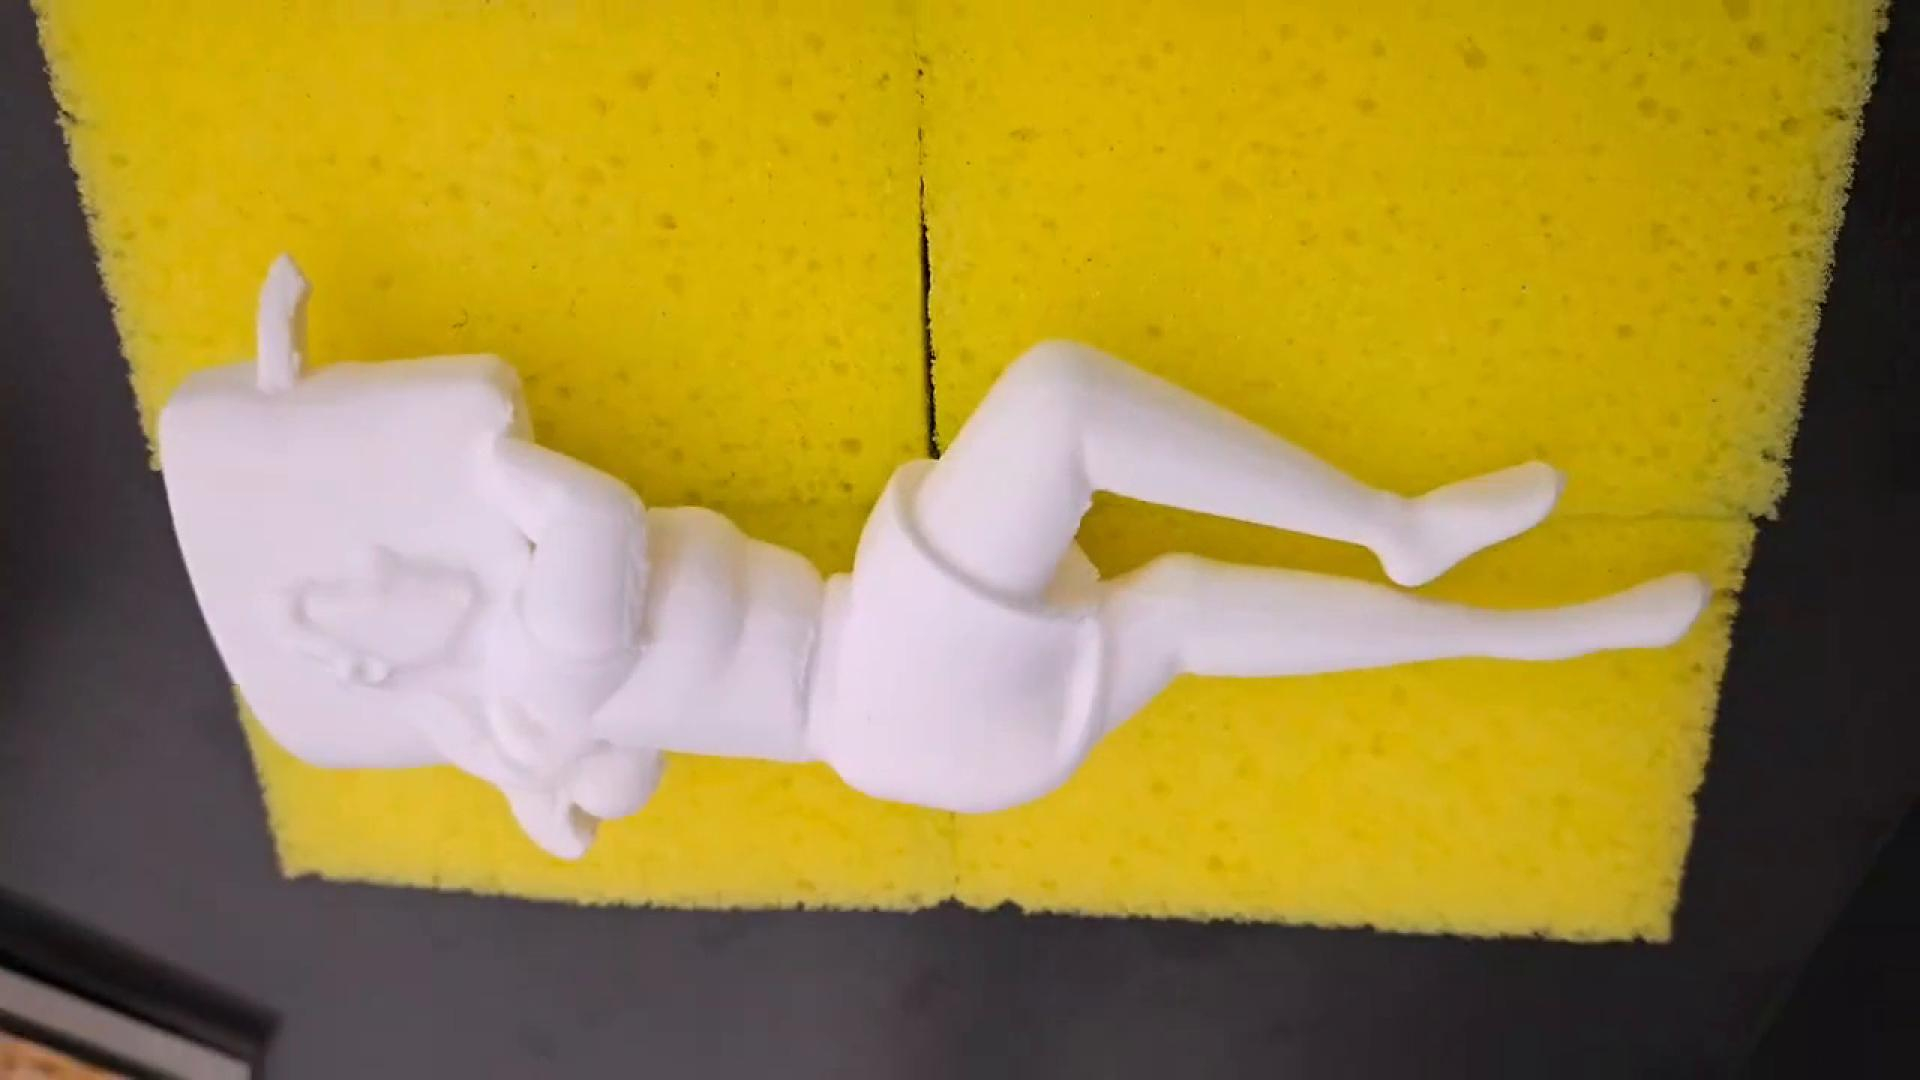Good-style: (67, 237, 1770, 887)
